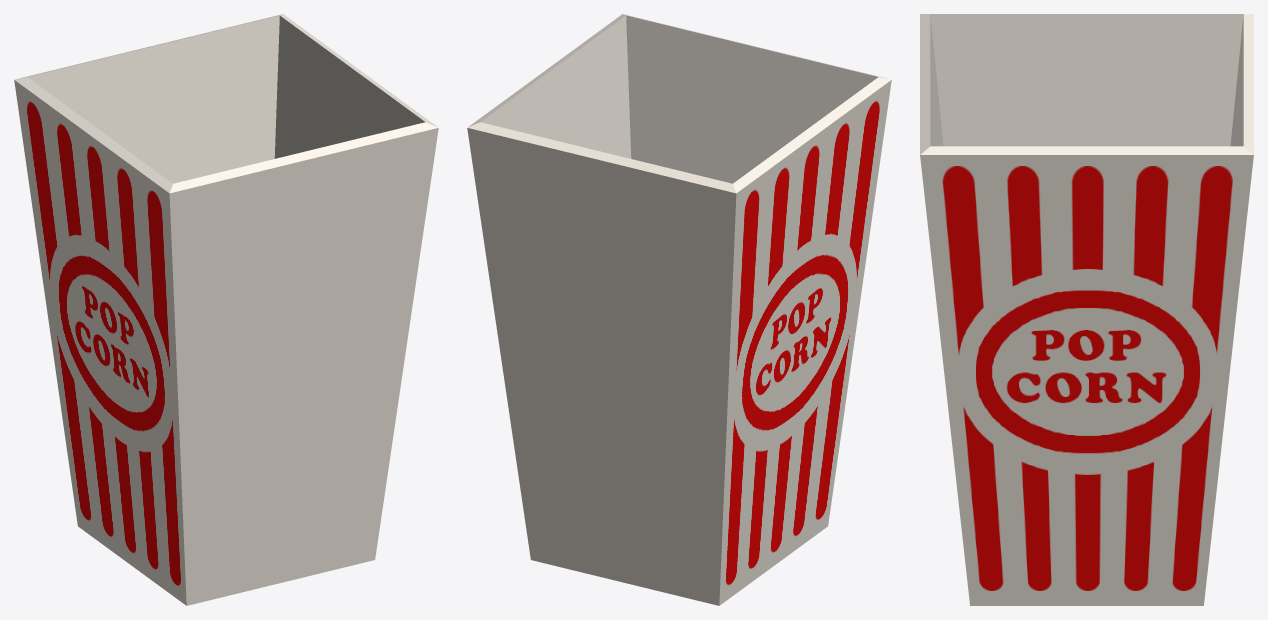
Rendered from S_Popcorn.fbx.
3 renders of one model, left to right at view 1: azimuth 30°, elevation 25°; view 2: azimuth 150°, elevation 25°; view 3: azimuth 270°, elevation 25°, orthographic. The views are drawn at different scales.
Parts seen in each view (by area): view 1: S_Popcorn; view 2: S_Popcorn; view 3: S_Popcorn.
Part boxes in pixels (left/top/right/bottom): S_Popcorn: left=14, top=14, right=438, bottom=605; S_Popcorn: left=467, top=14, right=891, bottom=605; S_Popcorn: left=920, top=14, right=1253, bottom=605.
Size of the model in its own units: 19.2 by 30.23 by 19.2.
